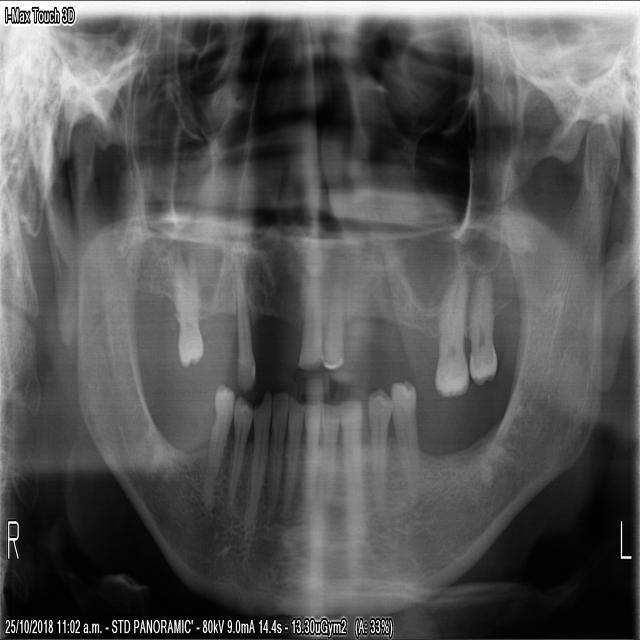LCD: (368, 384, 391, 503)
LID: (339, 400, 364, 520), (317, 399, 341, 515)
LIU: (321, 257, 346, 375)
LMU: (433, 258, 471, 398), (467, 265, 500, 390)
LPMD: (392, 377, 421, 493)
RCD: (266, 389, 287, 514)
RID: (278, 393, 303, 518), (303, 395, 320, 523)
RIU: (297, 250, 324, 375)
RMD: (201, 384, 234, 504)
RMU: (170, 234, 205, 373)
RPMD: (243, 393, 271, 529), (227, 397, 253, 497)
RPMU: (234, 257, 257, 394)
